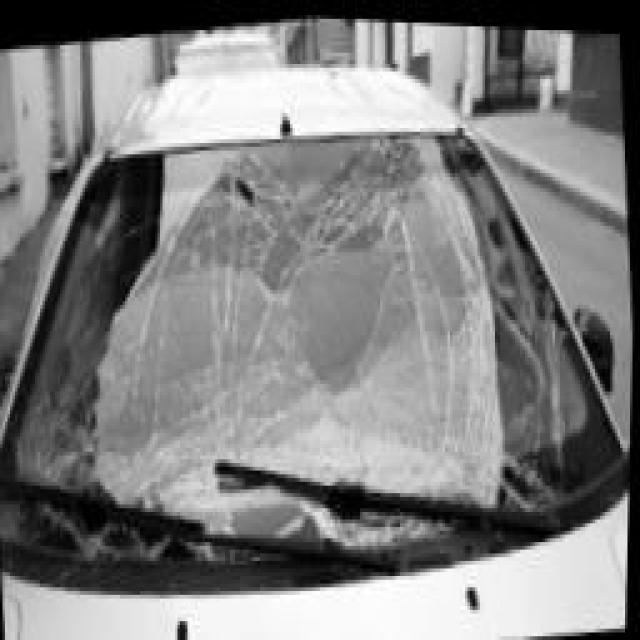Windshield: (0, 83, 591, 512)
